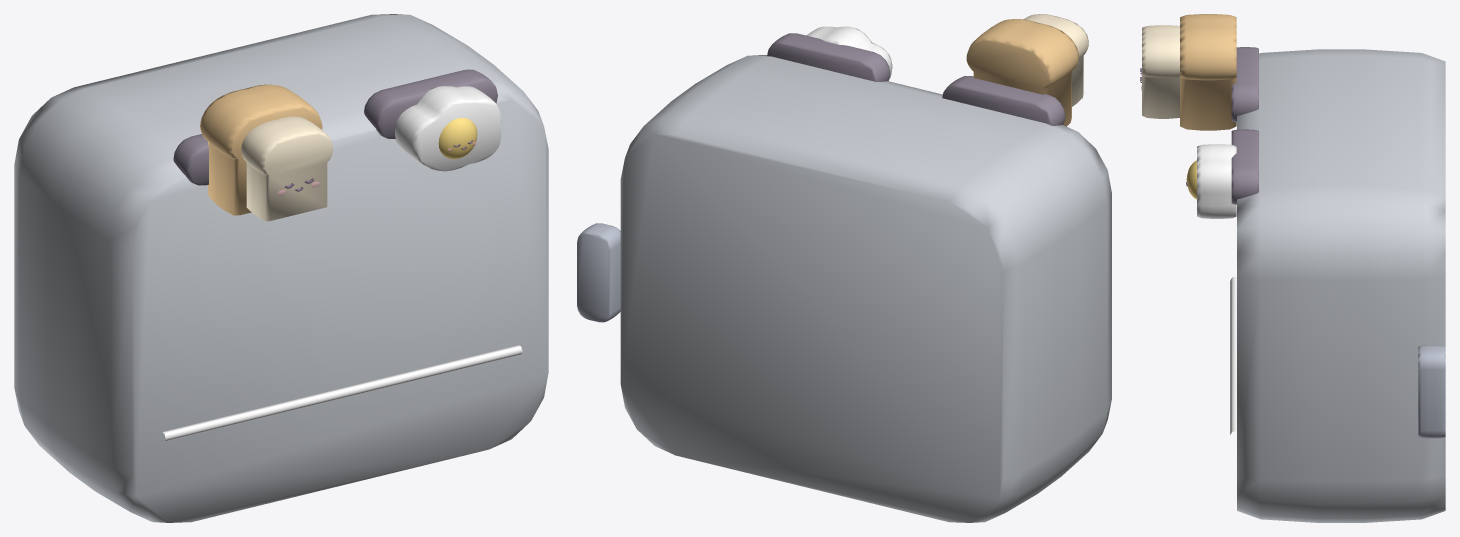
File: decor_2_classic.glb
3 renders of one model, left to right at view 1: azimuth 30°, elevation 25°; view 2: azimuth 150°, elevation 25°; view 3: azimuth 270°, elevation 25°, orthographic. The views are drawn at different scales.
Parts seen in each view (by area): view 1: decor_2_classic; view 2: decor_2_classic; view 3: decor_2_classic.
Part boxes in pixels (bbox=[...]): decor_2_classic: bbox=[14, 14, 548, 522]; decor_2_classic: bbox=[577, 14, 1111, 522]; decor_2_classic: bbox=[1140, 14, 1445, 522].
Size of the model in its own units: 16.04 by 14.02 by 10.03.
